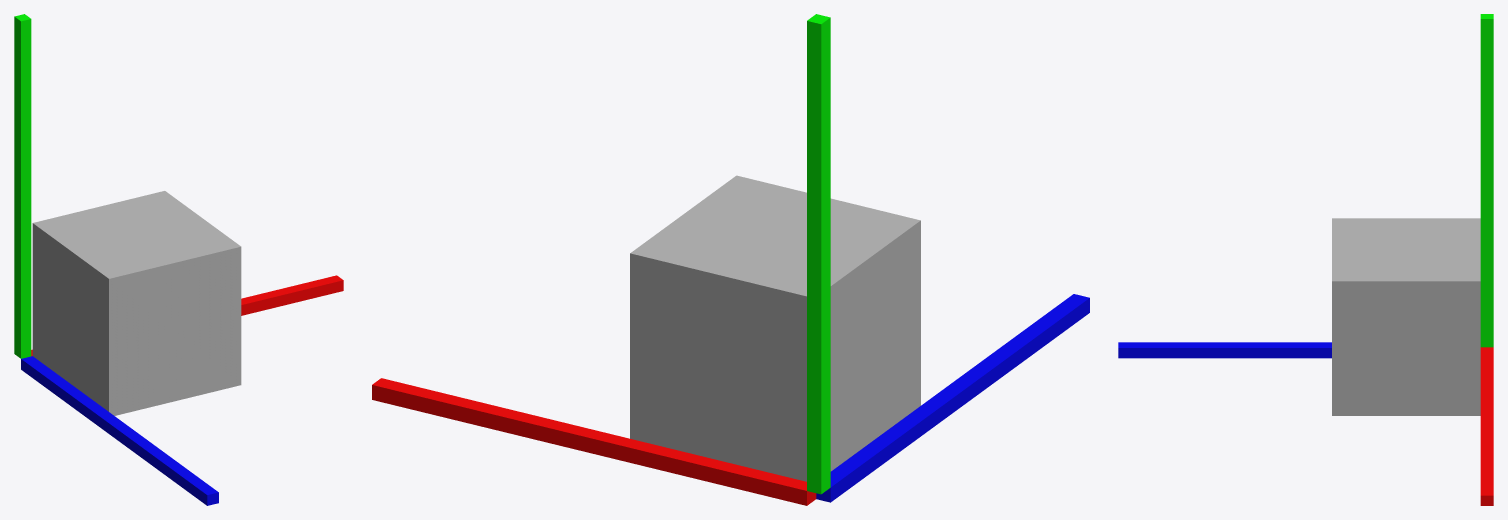
3 views of the same model, side by side, from view 1: azimuth 30°, elevation 25°; view 2: azimuth 150°, elevation 25°; view 3: azimuth 270°, elevation 25° (orthographic). The views are drawn at different scales.
Visible parts, largest first — view 1: pCube5; view 2: pCube5; view 3: pCube5.
Boxes of the visible parts, x1,y1,x2,y2 form: pCube5: (14, 14, 343, 505); pCube5: (372, 14, 1089, 505); pCube5: (1118, 14, 1493, 505).
Bounding box in the file's own units: 2.44 × 2.52 × 2.53.
